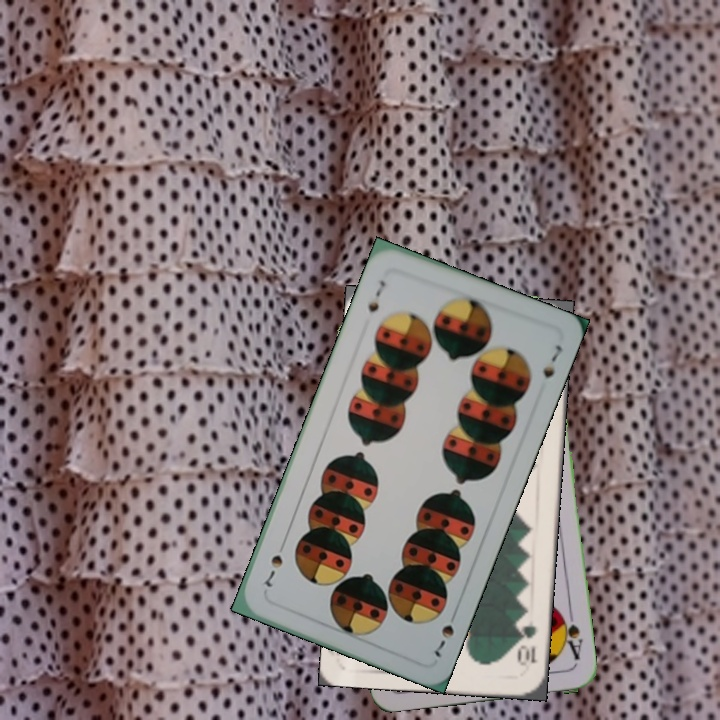G10: (513, 621, 540, 669)
S7: (430, 606, 460, 661), (364, 276, 388, 315)
SA: (556, 607, 586, 663)
